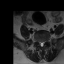CCS_normal: (41, 40, 42, 47)
LFS_stenosis: (44, 39, 46, 44)
LLS_normal: (42, 40, 44, 46)
RFS_severe_stenosis: (37, 39, 39, 44)
RLS_normal: (39, 40, 41, 47)
